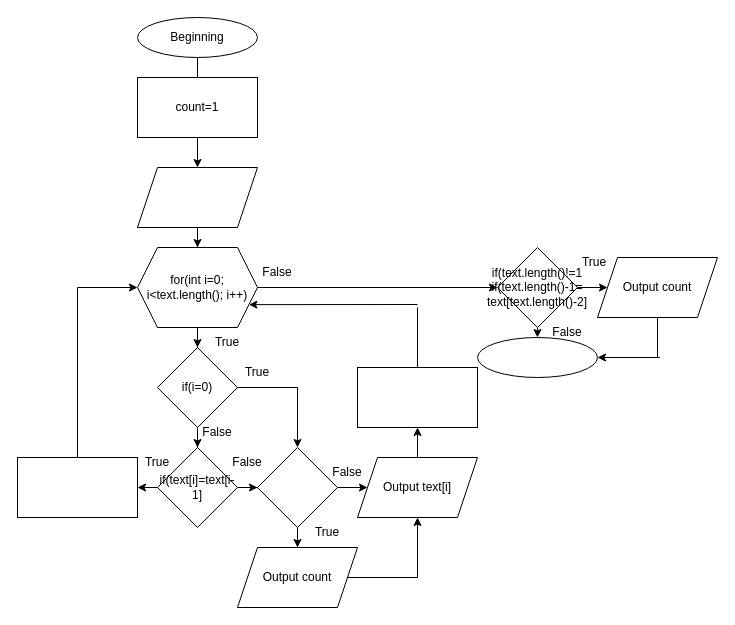
Image size: 735x625. Some labels were removed from this diagram. The box of each missing label's shape, as (x1, y1, x2, y2) in pixels:
count=1;: (356, 366, 478, 428)
count=count+1: (16, 456, 138, 518)
End: (476, 336, 598, 378)
if(count>1): (256, 446, 338, 528)
Input text: (136, 166, 258, 228)
